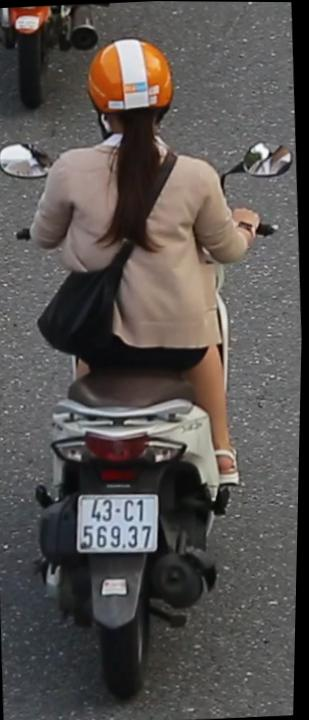LP: (73, 481, 167, 559)
helmet: (73, 28, 184, 154)
